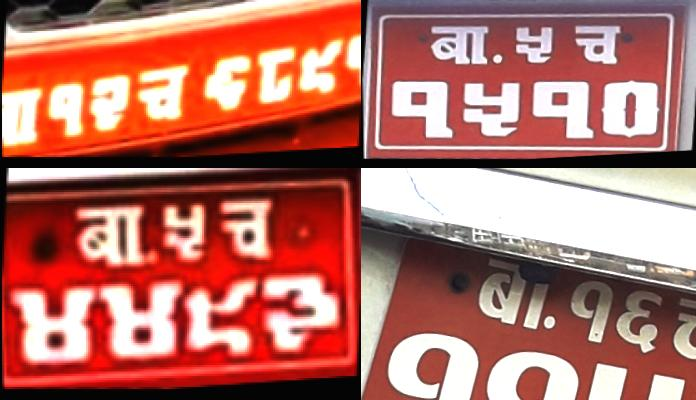0: (596, 76, 668, 148)
1: (375, 320, 488, 400), (475, 339, 583, 400), (523, 73, 604, 147), (382, 73, 461, 146), (558, 268, 617, 357), (44, 81, 91, 138), (341, 34, 361, 90)
2: (84, 73, 130, 133)
3: (255, 267, 344, 355)
4: (1, 277, 99, 369), (96, 272, 185, 369)
5: (570, 355, 689, 400), (456, 74, 531, 144), (156, 198, 213, 269), (507, 22, 565, 74)
6: (610, 279, 667, 364), (199, 55, 254, 112)
8: (250, 47, 298, 106)
9: (183, 274, 259, 358), (295, 39, 344, 98)
ba: (471, 246, 557, 344), (70, 200, 153, 270), (424, 21, 497, 75), (1, 88, 43, 144)
cha: (214, 195, 282, 266), (565, 20, 634, 79), (133, 63, 188, 130), (665, 289, 696, 384)
